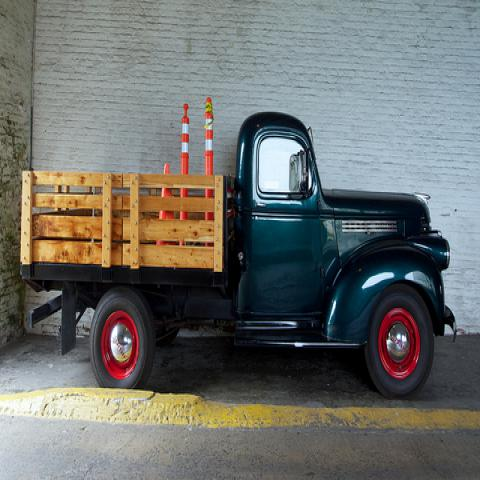truck: (14, 94, 456, 403)
